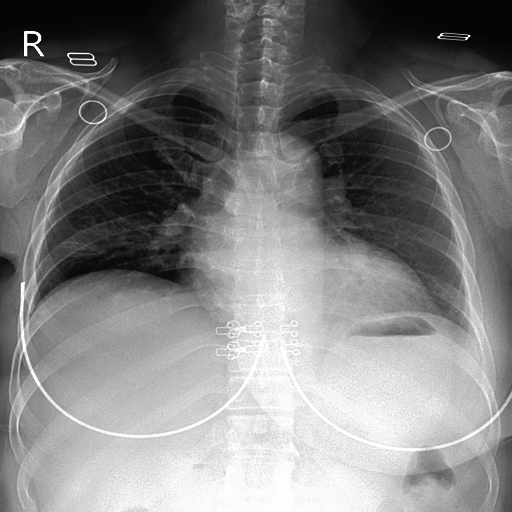Consolidation: (257, 134, 322, 193)
Nodule/Mass: (188, 241, 444, 327)
Pneumothorax: (57, 237, 103, 259)
